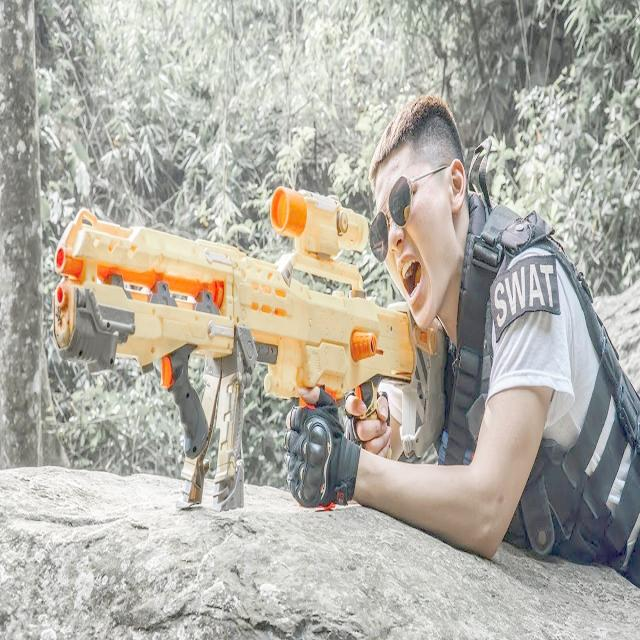Nerf gun: (54, 175, 426, 518)
